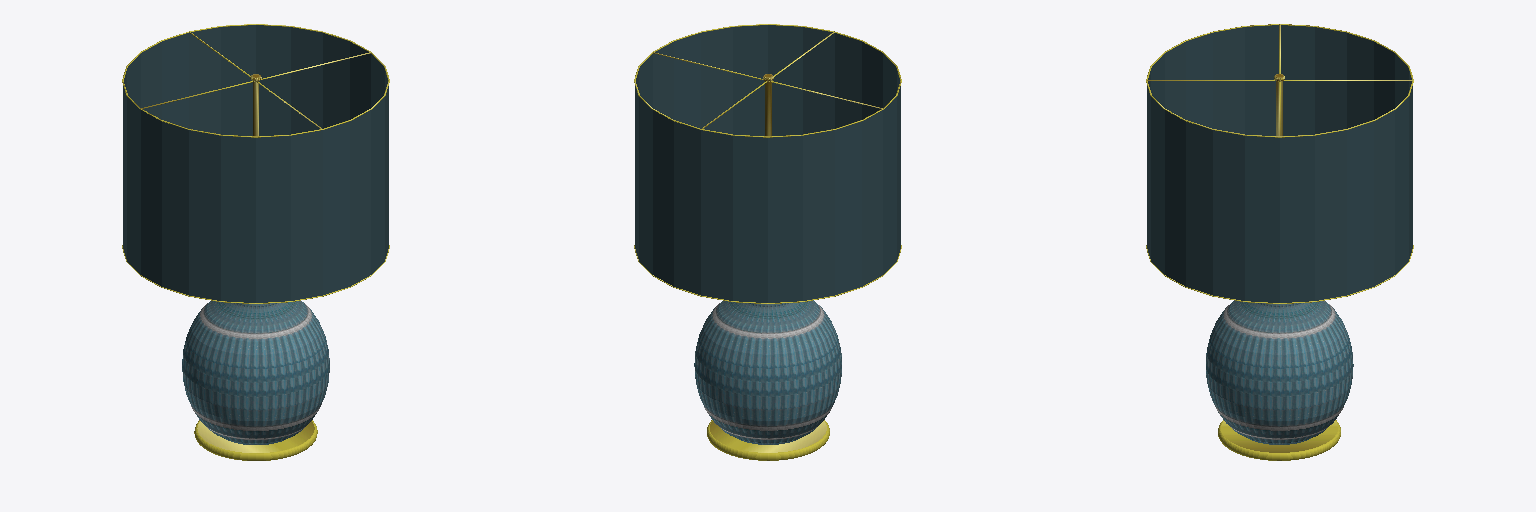
The picture shows the model from 3 angles: view 1: azimuth 30°, elevation 25°; view 2: azimuth 150°, elevation 25°; view 3: azimuth 270°, elevation 25°; orthographic projection.
Parts seen in each view (by area): view 1: Proj_ChairRoundedBack_Arms-COM-LampShade-39782-SW_6223_Still_Wat, Proj_ChairRoundedBack_Arms-COM-LampBase-39783-Material10, Proj_ChairRoundedBack_Arms-COM-LampBase-39783-GOLD, Proj_ChairRoundedBack_Arms-COM-LampShade-39782-GOLD; view 2: Proj_ChairRoundedBack_Arms-COM-LampShade-39782-SW_6223_Still_Wat, Proj_ChairRoundedBack_Arms-COM-LampBase-39783-Material10, Proj_ChairRoundedBack_Arms-COM-LampBase-39783-GOLD, Proj_ChairRoundedBack_Arms-COM-LampShade-39782-GOLD; view 3: Proj_ChairRoundedBack_Arms-COM-LampShade-39782-SW_6223_Still_Wat, Proj_ChairRoundedBack_Arms-COM-LampBase-39783-Material10, Proj_ChairRoundedBack_Arms-COM-LampBase-39783-GOLD, Proj_ChairRoundedBack_Arms-COM-LampShade-39782-GOLD.
Part boxes in pixels (left/top/right/bottom): Proj_ChairRoundedBack_Arms-COM-LampShade-39782-SW_6223_Still_Wat: left=123, top=25, right=388, bottom=302; Proj_ChairRoundedBack_Arms-COM-LampBase-39783-Material10: left=182, top=301, right=329, bottom=444; Proj_ChairRoundedBack_Arms-COM-LampBase-39783-GOLD: left=194, top=74, right=317, bottom=460; Proj_ChairRoundedBack_Arms-COM-LampShade-39782-GOLD: left=122, top=24, right=389, bottom=303; Proj_ChairRoundedBack_Arms-COM-LampShade-39782-SW_6223_Still_Wat: left=635, top=25, right=900, bottom=302; Proj_ChairRoundedBack_Arms-COM-LampBase-39783-Material10: left=694, top=300, right=841, bottom=444; Proj_ChairRoundedBack_Arms-COM-LampBase-39783-GOLD: left=707, top=74, right=829, bottom=460; Proj_ChairRoundedBack_Arms-COM-LampShade-39782-GOLD: left=634, top=24, right=901, bottom=303; Proj_ChairRoundedBack_Arms-COM-LampShade-39782-SW_6223_Still_Wat: left=1147, top=25, right=1412, bottom=302; Proj_ChairRoundedBack_Arms-COM-LampBase-39783-Material10: left=1206, top=300, right=1353, bottom=444; Proj_ChairRoundedBack_Arms-COM-LampBase-39783-GOLD: left=1218, top=74, right=1340, bottom=460; Proj_ChairRoundedBack_Arms-COM-LampShade-39782-GOLD: left=1146, top=24, right=1413, bottom=303.
Size of the model in its own units: 0.4416 by 0.6543 by 0.4416.
4 materials, 2 textured.